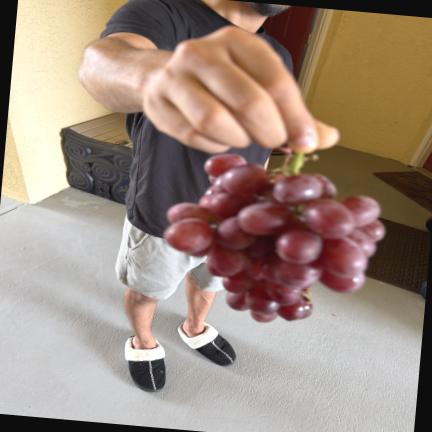grape_cluster: (163, 148, 385, 322)
